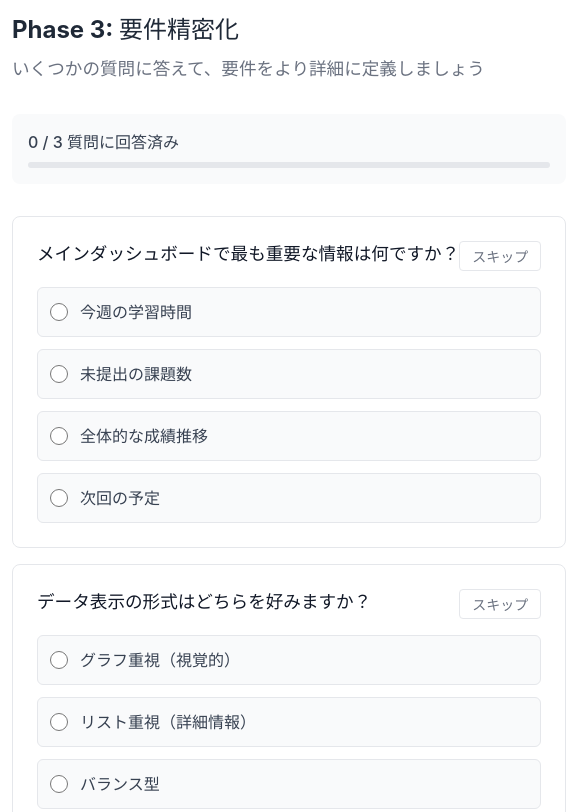
Phase 3: インタラクティブ要件精密化 › 進捗表示 › 回答の進捗が表示される
Expected: the text "0 / 3 質問に回答済み" is shown, [28, 132, 179, 152]
Click the radio button labelled "未提出の課題数": (59, 374) [50, 365, 68, 383]
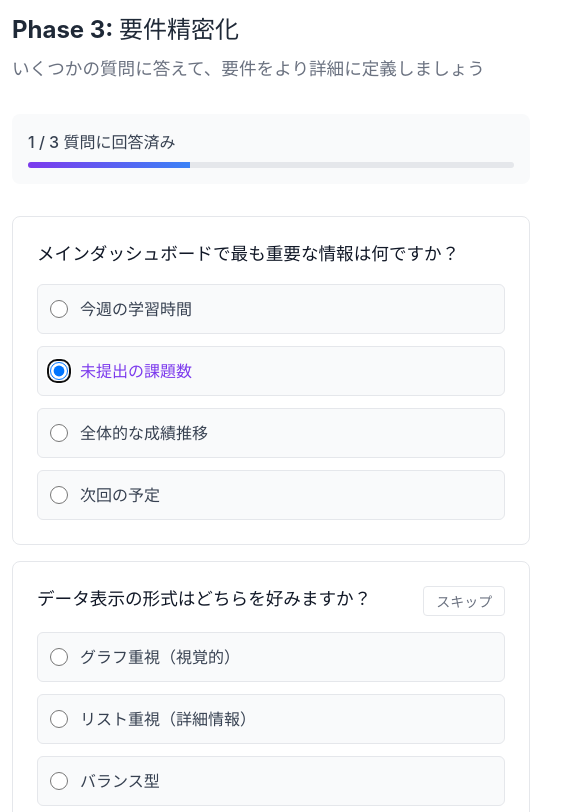
Result: the text "1 / 3 質問に回答済み" is shown at [28, 132, 175, 152]
